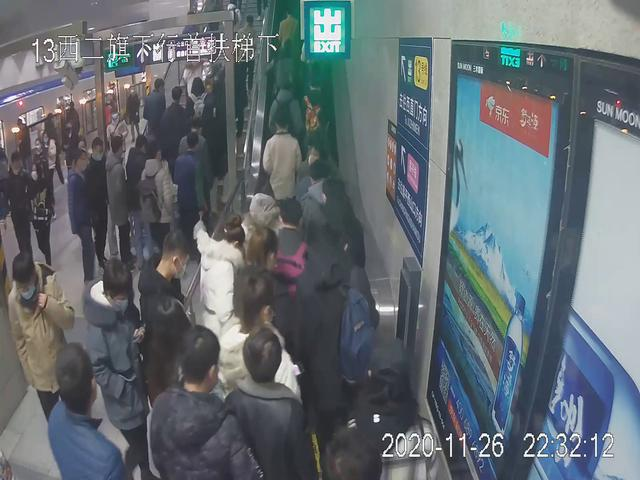person: (2, 248, 84, 471), (78, 259, 160, 480), (156, 323, 258, 480), (215, 328, 312, 478), (135, 237, 207, 422), (196, 211, 252, 376), (68, 149, 106, 300), (261, 116, 306, 230), (137, 141, 182, 255)
